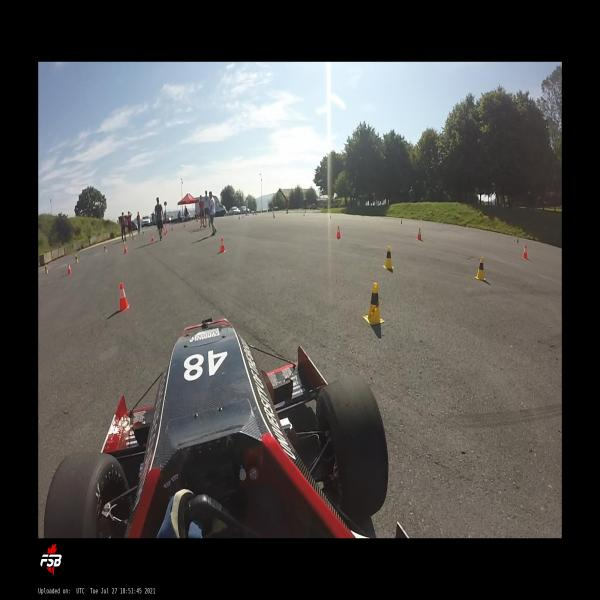orange_cone: (118, 283, 130, 311), (220, 238, 226, 253), (336, 225, 341, 239), (417, 228, 422, 241), (523, 245, 527, 259), (68, 262, 72, 274), (124, 244, 127, 253), (152, 234, 153, 242), (165, 230, 166, 235), (166, 228, 167, 233), (172, 227, 173, 231), (157, 228, 158, 232), (184, 225, 185, 228)
yellow_cone: (363, 282, 385, 325), (474, 256, 486, 280), (383, 247, 394, 269), (45, 264, 48, 274), (104, 245, 107, 252), (76, 254, 78, 264), (123, 238, 125, 244), (273, 214, 275, 219), (134, 236, 135, 240), (143, 232, 144, 235)
